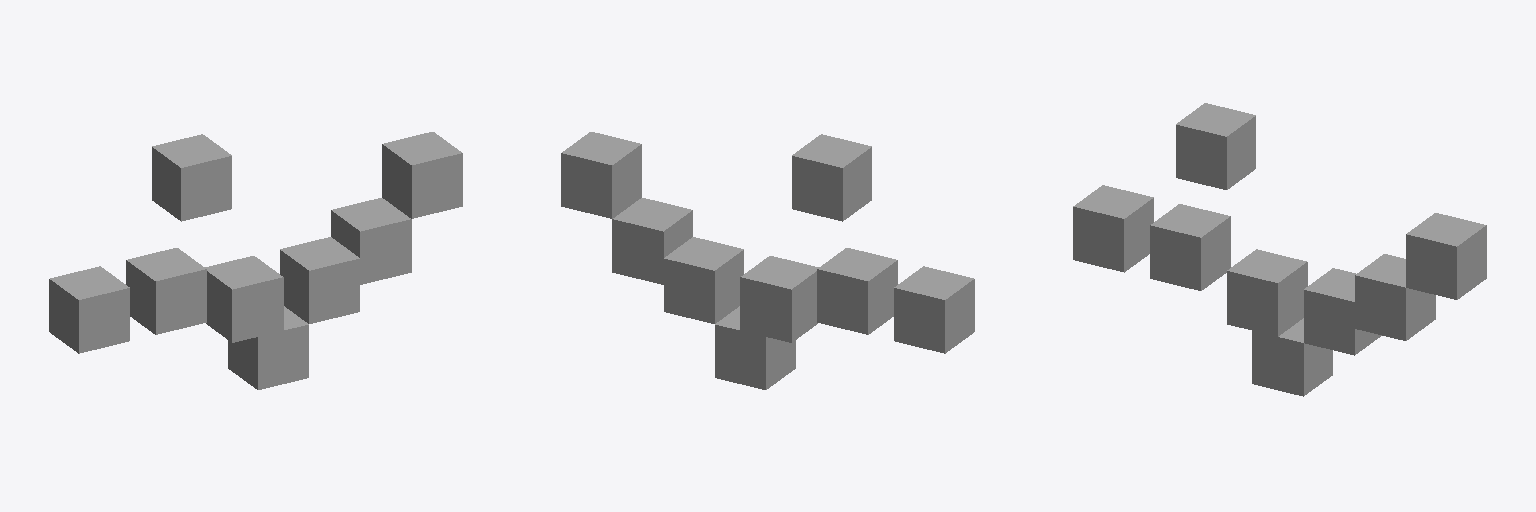
3 renders of one model, left to right at view 1: azimuth 30°, elevation 25°; view 2: azimuth 150°, elevation 25°; view 3: azimuth 330°, elevation 25°, orthographic.
Parts seen in each view (by area): view 1: 0ZSpGdYar6ueT_s2Wn1gug, 3RjpoTJ6v15uWoRvk50YM8, 1MNxogoh5069Ce10DJPnvR, 13R$bdvVf0heFFbt22IGwL, 3RwU3xrc53lANSpF74qA__, 0wplyZKoP0BPpAwLTj53mA, 0DId5LFxr40vKS6h0NQ6Pt, 1WS2jsl1v6zRraJAvJamB5; view 2: 0ZSpGdYar6ueT_s2Wn1gug, 3RjpoTJ6v15uWoRvk50YM8, 1MNxogoh5069Ce10DJPnvR, 13R$bdvVf0heFFbt22IGwL, 3RwU3xrc53lANSpF74qA__, 0wplyZKoP0BPpAwLTj53mA, 0DId5LFxr40vKS6h0NQ6Pt, 1WS2jsl1v6zRraJAvJamB5; view 3: 3RjpoTJ6v15uWoRvk50YM8, 13R$bdvVf0heFFbt22IGwL, 1MNxogoh5069Ce10DJPnvR, 0wplyZKoP0BPpAwLTj53mA, 0ZSpGdYar6ueT_s2Wn1gug, 0DId5LFxr40vKS6h0NQ6Pt, 1WS2jsl1v6zRraJAvJamB5, 3RwU3xrc53lANSpF74qA__.
Boxes of the visible parts, box(x1,y1,x2,y2) form: 0ZSpGdYar6ueT_s2Wn1gug: box(49, 266, 129, 353); 3RjpoTJ6v15uWoRvk50YM8: box(382, 132, 462, 218); 1MNxogoh5069Ce10DJPnvR: box(152, 134, 231, 221); 13R$bdvVf0heFFbt22IGwL: box(126, 248, 206, 334); 3RwU3xrc53lANSpF74qA__: box(280, 237, 359, 323); 0wplyZKoP0BPpAwLTj53mA: box(205, 256, 283, 342); 0DId5LFxr40vKS6h0NQ6Pt: box(331, 198, 411, 284); 1WS2jsl1v6zRraJAvJamB5: box(228, 306, 308, 389); 0ZSpGdYar6ueT_s2Wn1gug: box(894, 266, 974, 353); 3RjpoTJ6v15uWoRvk50YM8: box(561, 132, 641, 218); 1MNxogoh5069Ce10DJPnvR: box(792, 134, 871, 221); 13R$bdvVf0heFFbt22IGwL: box(817, 248, 897, 334); 3RwU3xrc53lANSpF74qA__: box(664, 237, 743, 323); 0wplyZKoP0BPpAwLTj53mA: box(740, 256, 818, 342); 0DId5LFxr40vKS6h0NQ6Pt: box(612, 198, 692, 284); 1WS2jsl1v6zRraJAvJamB5: box(715, 306, 795, 389); 3RjpoTJ6v15uWoRvk50YM8: box(1406, 213, 1486, 299); 13R$bdvVf0heFFbt22IGwL: box(1150, 204, 1230, 290); 1MNxogoh5069Ce10DJPnvR: box(1176, 103, 1255, 189); 0wplyZKoP0BPpAwLTj53mA: box(1227, 249, 1307, 336); 0ZSpGdYar6ueT_s2Wn1gug: box(1073, 185, 1153, 272); 0DId5LFxr40vKS6h0NQ6Pt: box(1355, 254, 1435, 340); 1WS2jsl1v6zRraJAvJamB5: box(1252, 318, 1332, 396); 3RwU3xrc53lANSpF74qA__: box(1304, 268, 1381, 355).
Bounding box in the file's own units: 15 × 9 × 2.